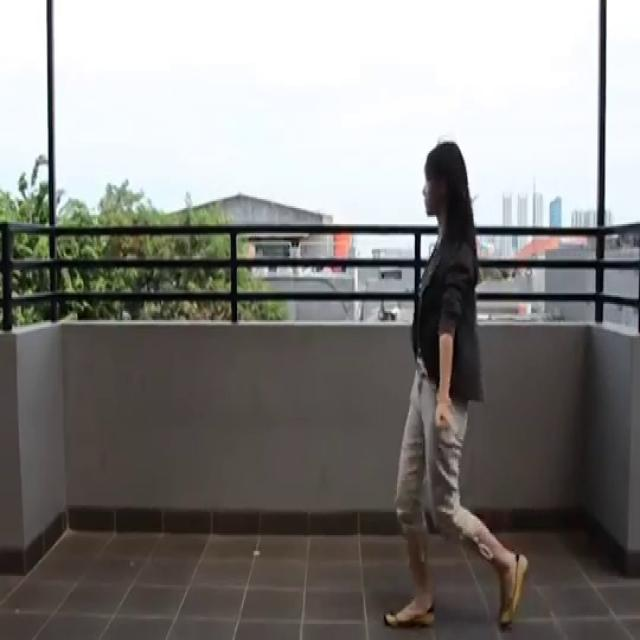normal: (378, 138, 538, 640)
